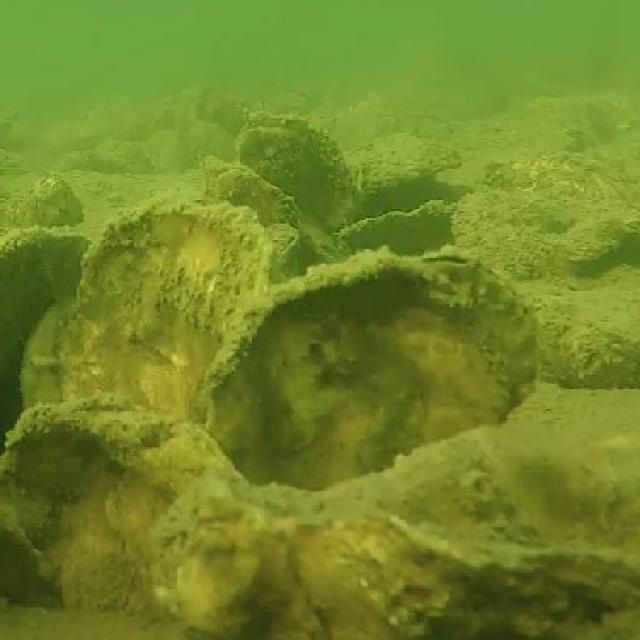Oyster-Closed: (416, 251, 536, 418)
Oyster-Indeterminate: (155, 484, 640, 640), (201, 256, 499, 493), (5, 398, 239, 608), (62, 205, 271, 418), (0, 232, 85, 456), (239, 118, 348, 227), (528, 294, 640, 388), (203, 164, 287, 221), (10, 177, 84, 231), (268, 224, 301, 272)
Oyster-Open: (346, 142, 462, 247)
